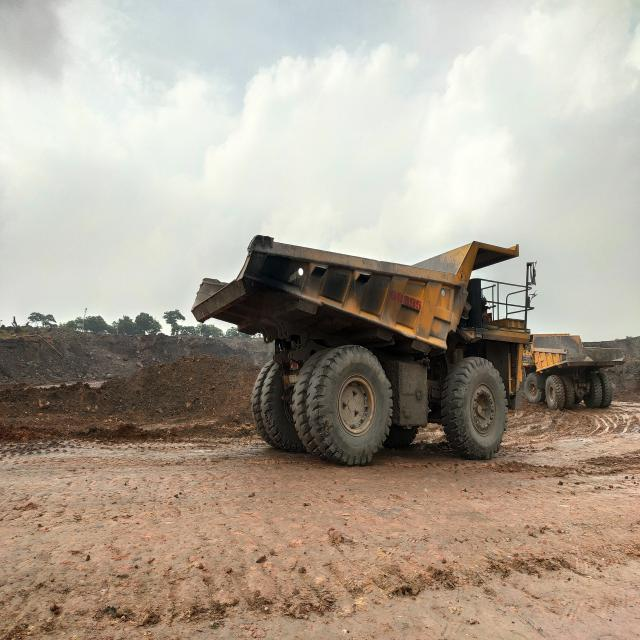dump_truck: (192, 235, 535, 468), (520, 332, 630, 407)
